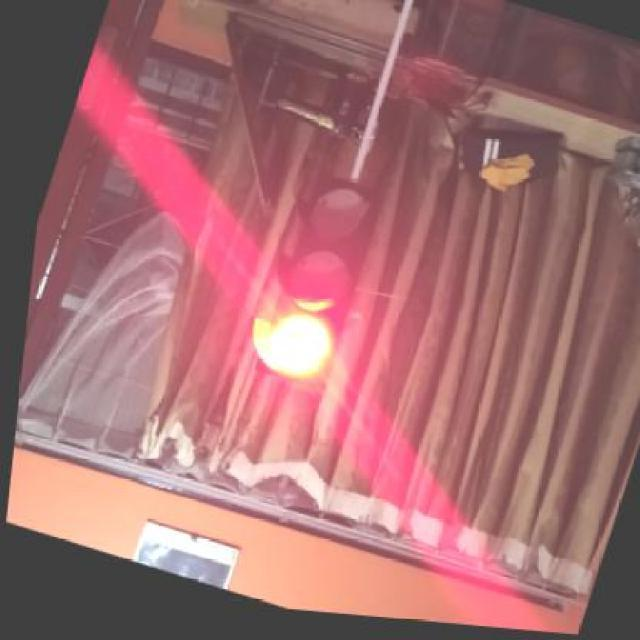red_light: (252, 174, 379, 387)
